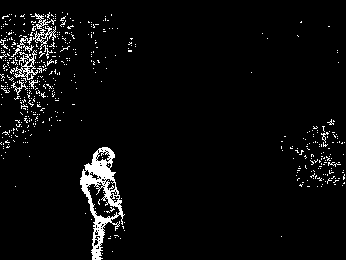person: (76, 146, 127, 260)
